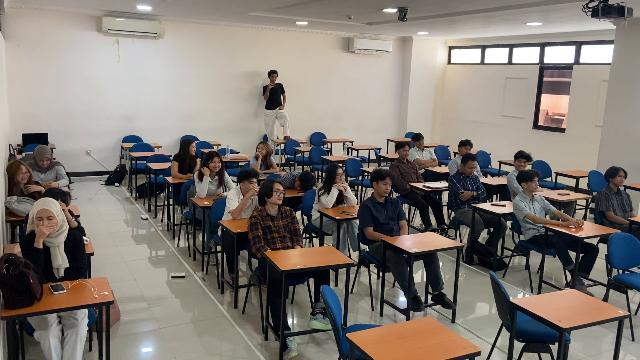senang: (271, 185, 284, 205), (379, 180, 392, 196), (17, 169, 30, 182), (335, 169, 346, 183), (210, 159, 222, 171), (615, 173, 626, 186), (516, 158, 527, 170), (39, 157, 50, 168), (529, 179, 539, 191), (467, 164, 476, 176), (257, 145, 267, 155), (189, 144, 197, 156), (402, 148, 410, 159), (416, 139, 425, 148)
